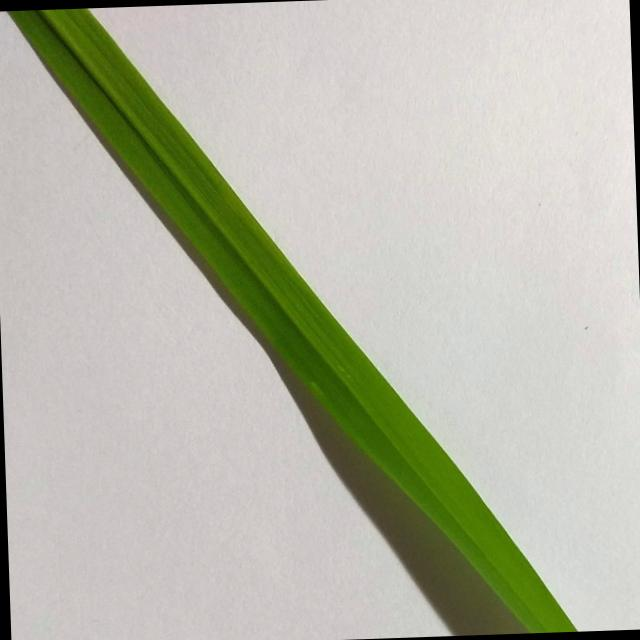Rice_Healthy: (8, 8, 577, 633)
